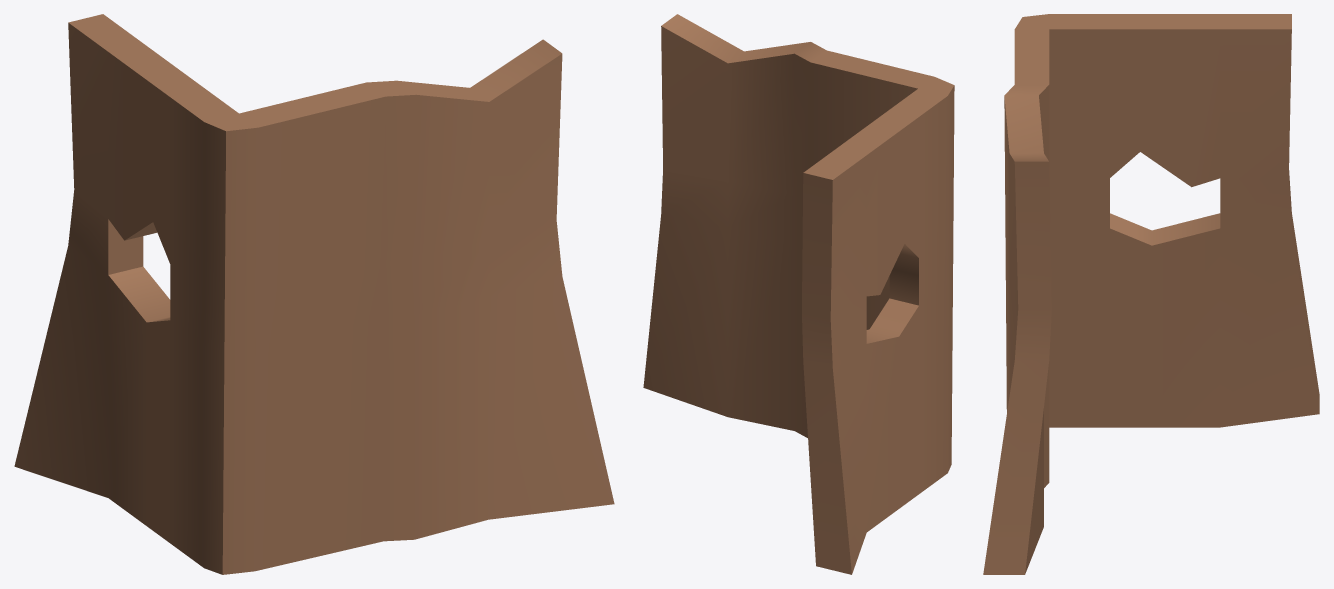
The model's file is Mur3.fbx.
3 views of the same model, side by side, from view 1: azimuth 30°, elevation 25°; view 2: azimuth 150°, elevation 25°; view 3: azimuth 270°, elevation 25° (orthographic). The views are drawn at different scales.
Visible parts, largest first — view 1: Cube.102; view 2: Cube.102; view 3: Cube.102.
Part boxes in pixels (left/top/right/bottom): Cube.102: left=14, top=14, right=614, bottom=574; Cube.102: left=643, top=14, right=954, bottom=574; Cube.102: left=983, top=14, right=1319, bottom=574.
Size of the model in its own units: 559 by 579 by 444.
